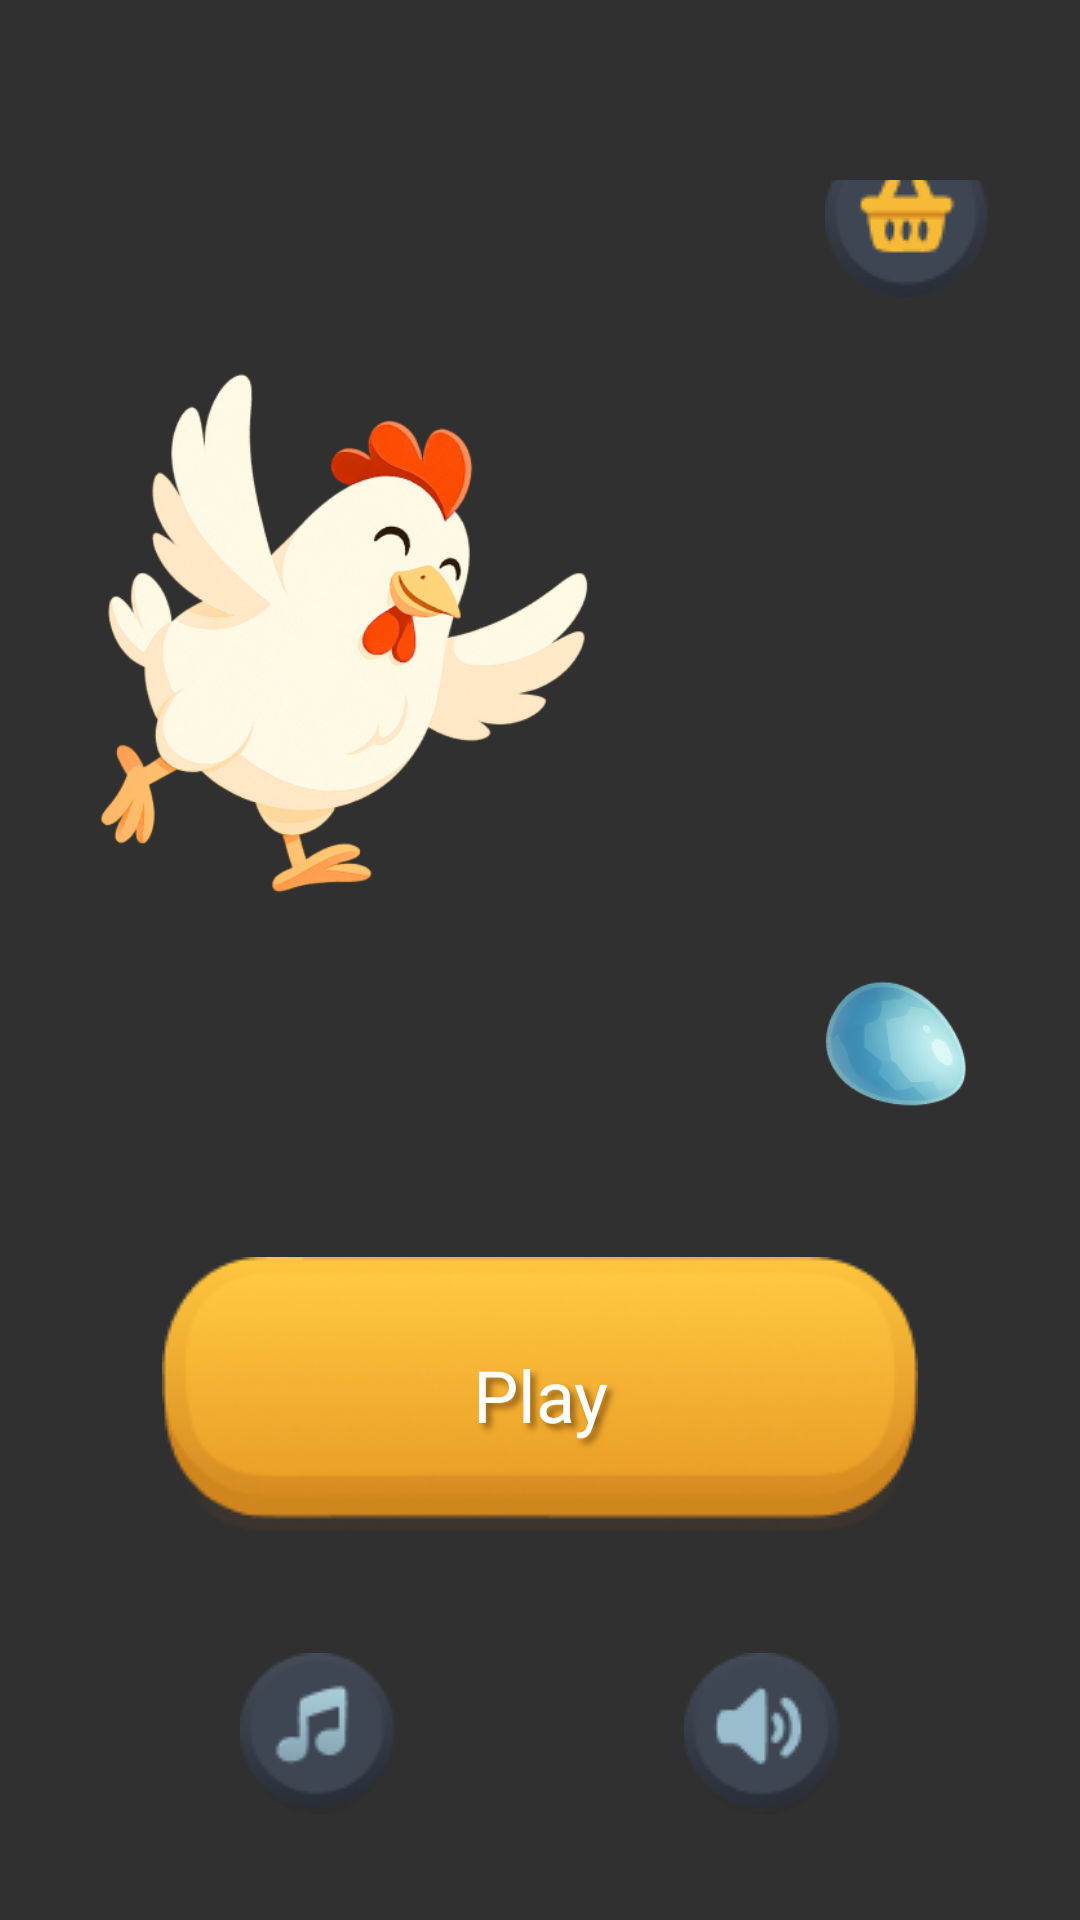

Icon bounding boxes for this 1080 × 1920 phone screenshot, format box=[x1, y1, x2, y2]:
music: box=[240, 1653, 389, 1793]
sound: box=[684, 1653, 836, 1794]
